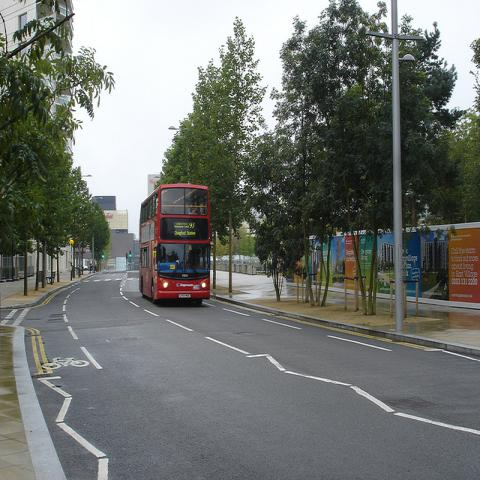bus: (138, 186, 212, 308)
